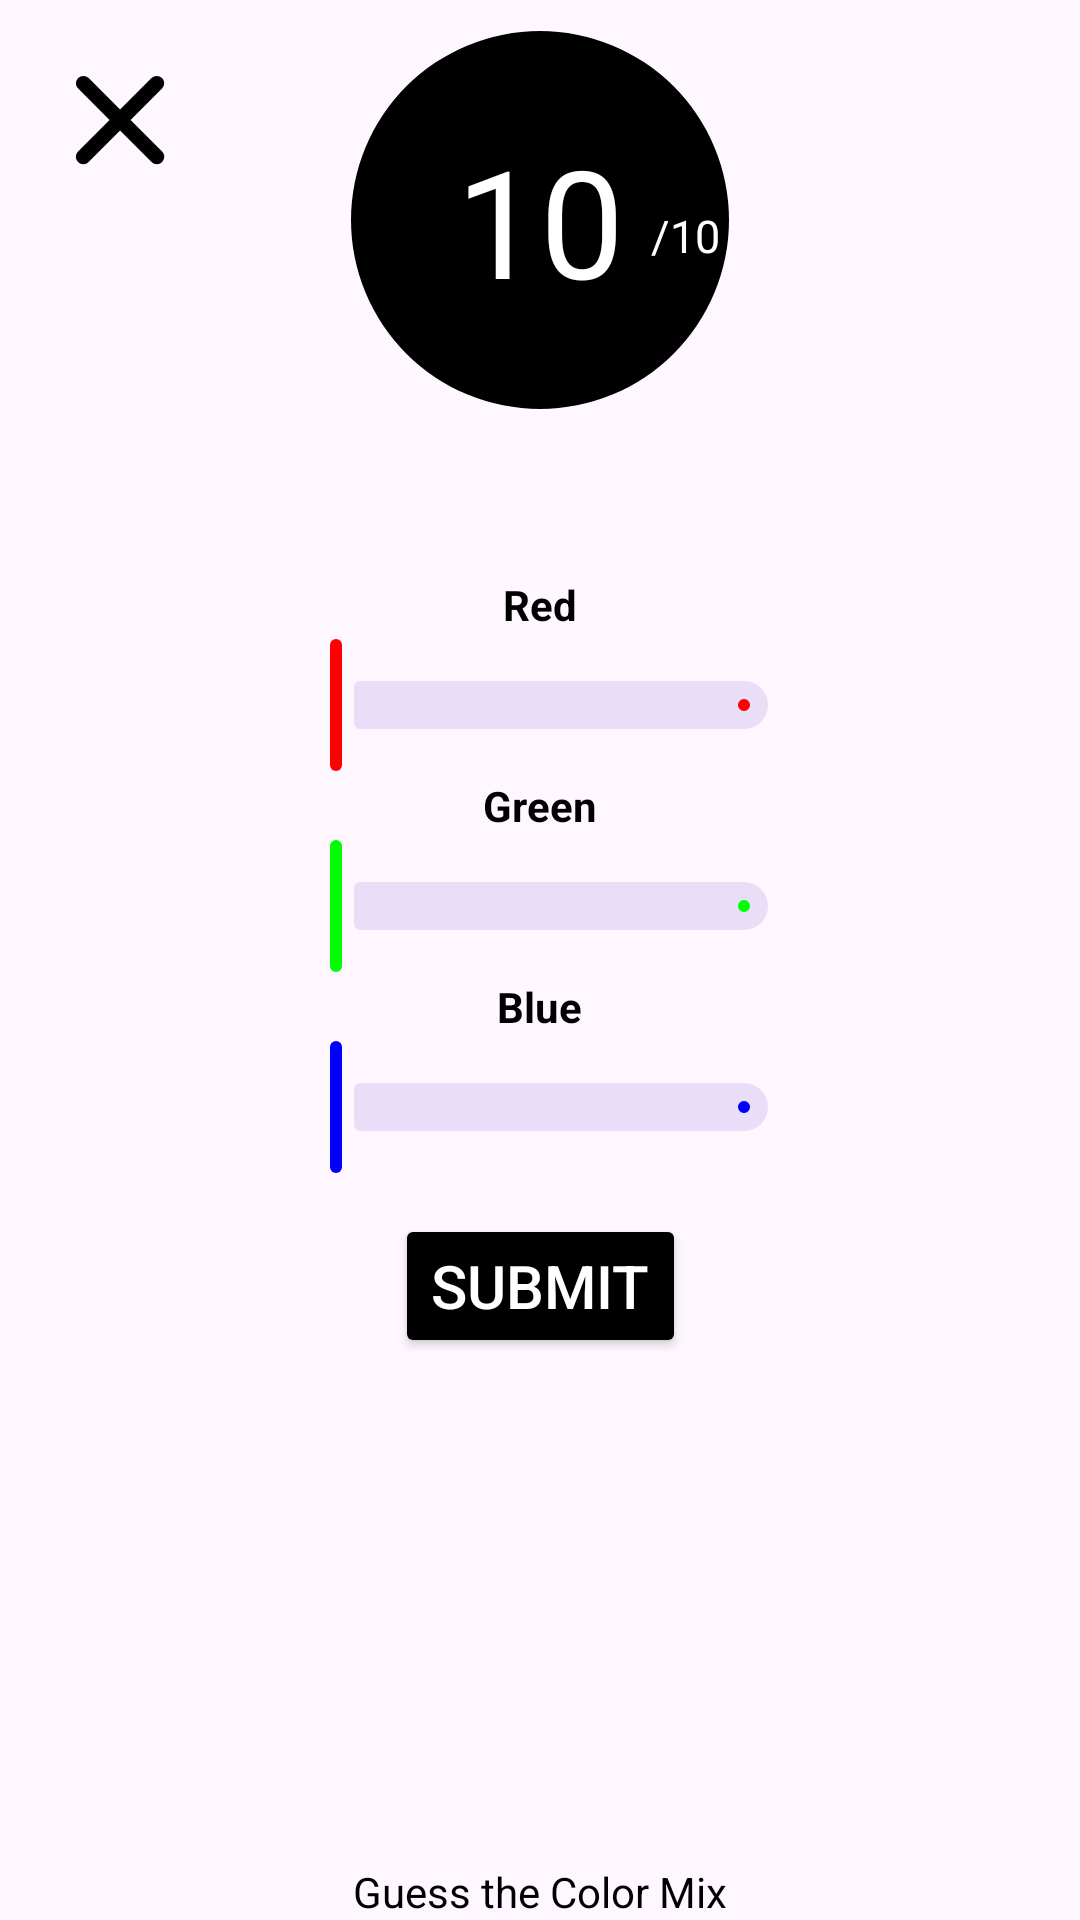

Icon bounding boxes for this 1080 x 1920 phone screenshot, format (x1, y1, x2, y2):
cross: (76, 76, 165, 165)
